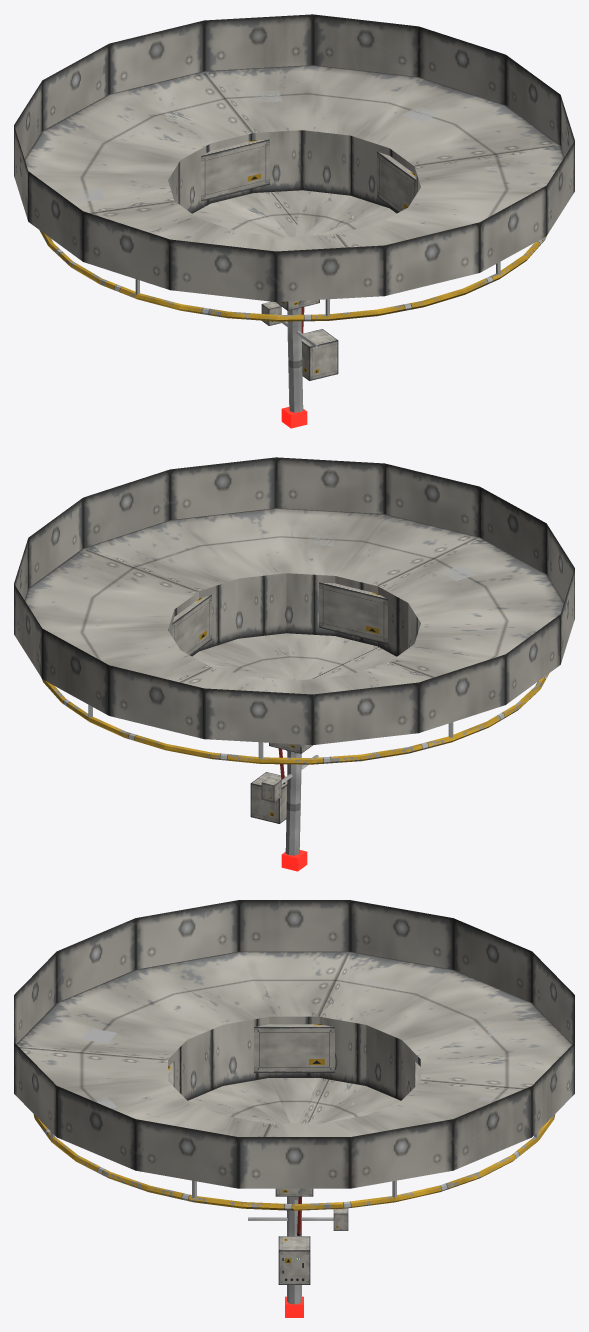
File: cen_hub_bottom.fbx
3 renders of one model, top to bottom at view 1: azimuth 30°, elevation 25°; view 2: azimuth 150°, elevation 25°; view 3: azimuth 270°, elevation 25°, orthographic.
Parts seen in each view (by area): view 1: cen_hub_bottom; view 2: cen_hub_bottom; view 3: cen_hub_bottom.
Boxes of the visible parts, x1,y1,x2,y2 form: cen_hub_bottom: [14, 14, 574, 428]; cen_hub_bottom: [14, 457, 574, 871]; cen_hub_bottom: [14, 900, 574, 1317].
Bounding box in the file's own units: 2.66 × 1.55 × 2.66.
1 material, 1 textured.
